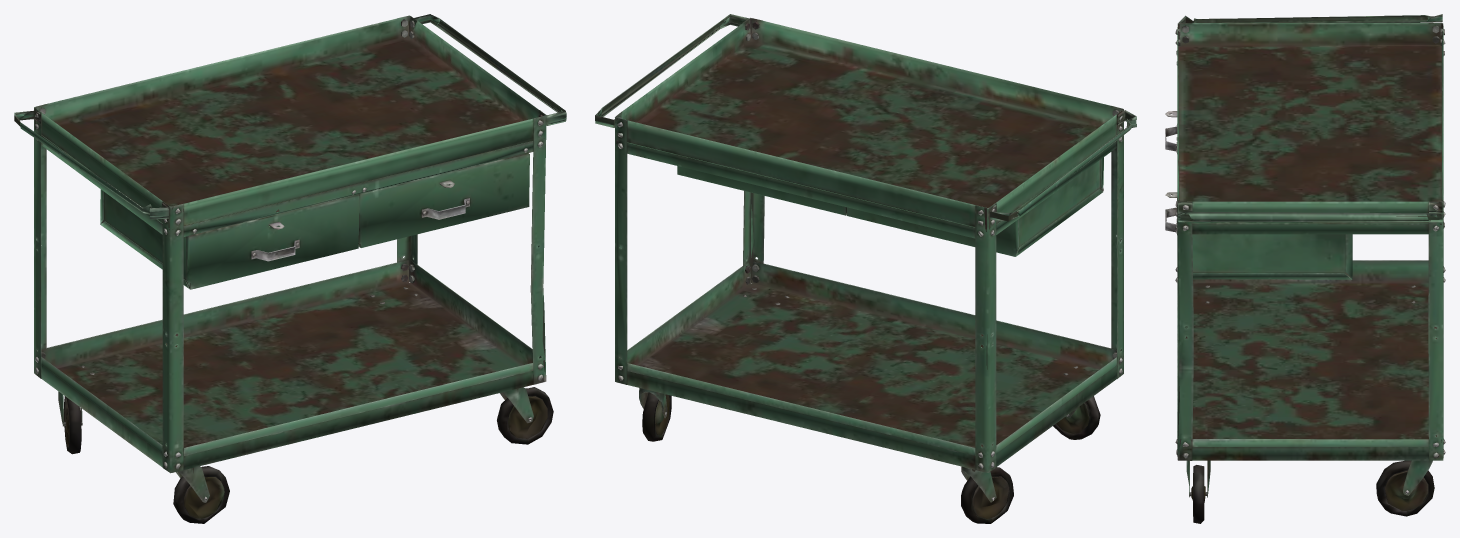
The model's file is tool_cart.glb.
The picture shows the model from 3 angles, left to right: view 1: azimuth 30°, elevation 25°; view 2: azimuth 150°, elevation 25°; view 3: azimuth 270°, elevation 25°; orthographic projection. The views are drawn at different scales.
Visible parts, largest first — view 1: tool_cart; view 2: tool_cart; view 3: tool_cart.
Boxes of the visible parts, bbox=[...] form: tool_cart: bbox=[14, 14, 566, 523]; tool_cart: bbox=[595, 14, 1136, 523]; tool_cart: bbox=[1165, 14, 1445, 523].
Size of the model in its own units: 1.27 by 0.9646 by 0.7522.
1 material, 1 textured.
